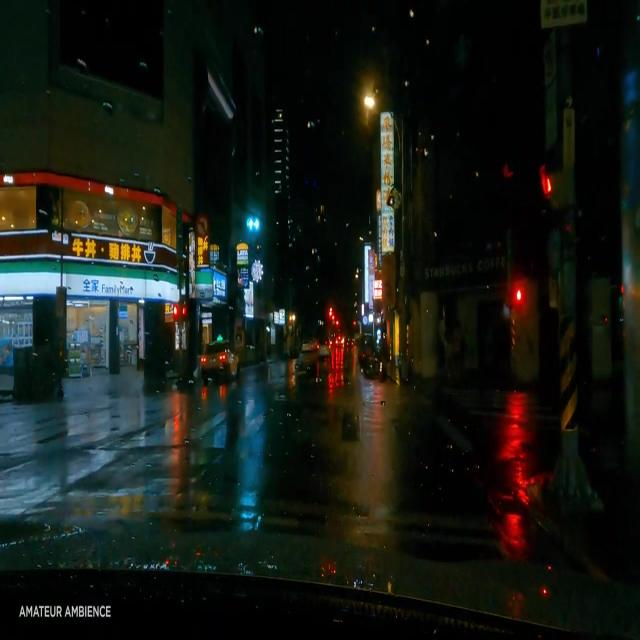Car: (200, 341, 237, 382)
